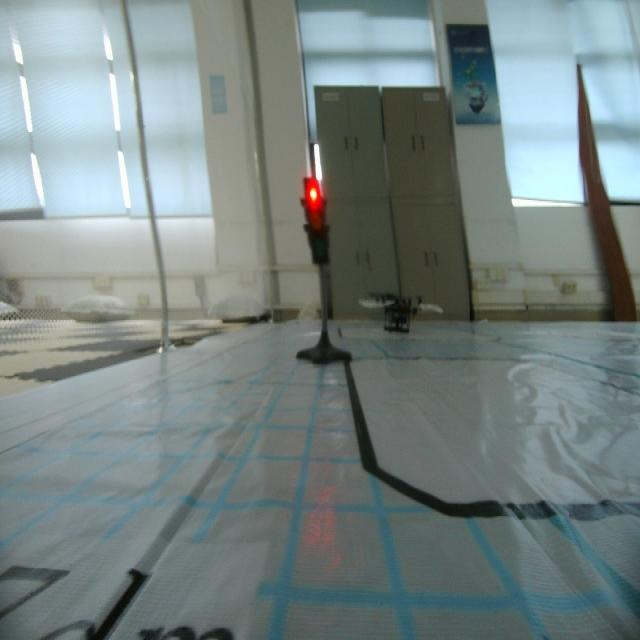red: (300, 172, 330, 267)
